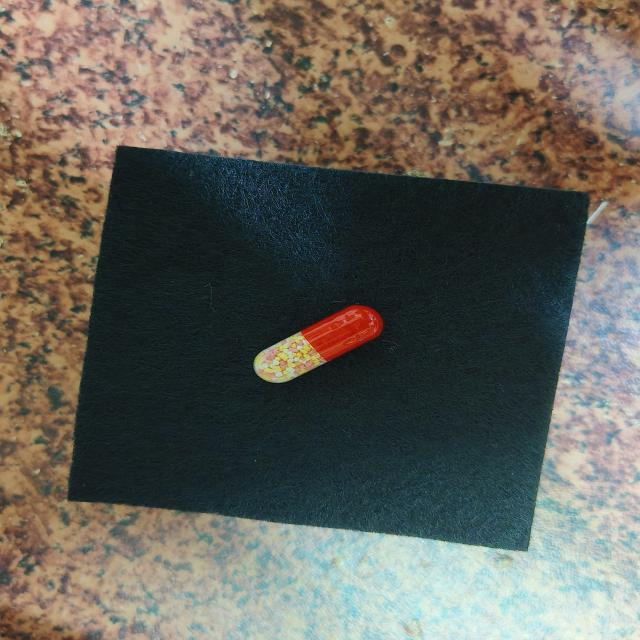Intact Capsule: (253, 305, 384, 383)
